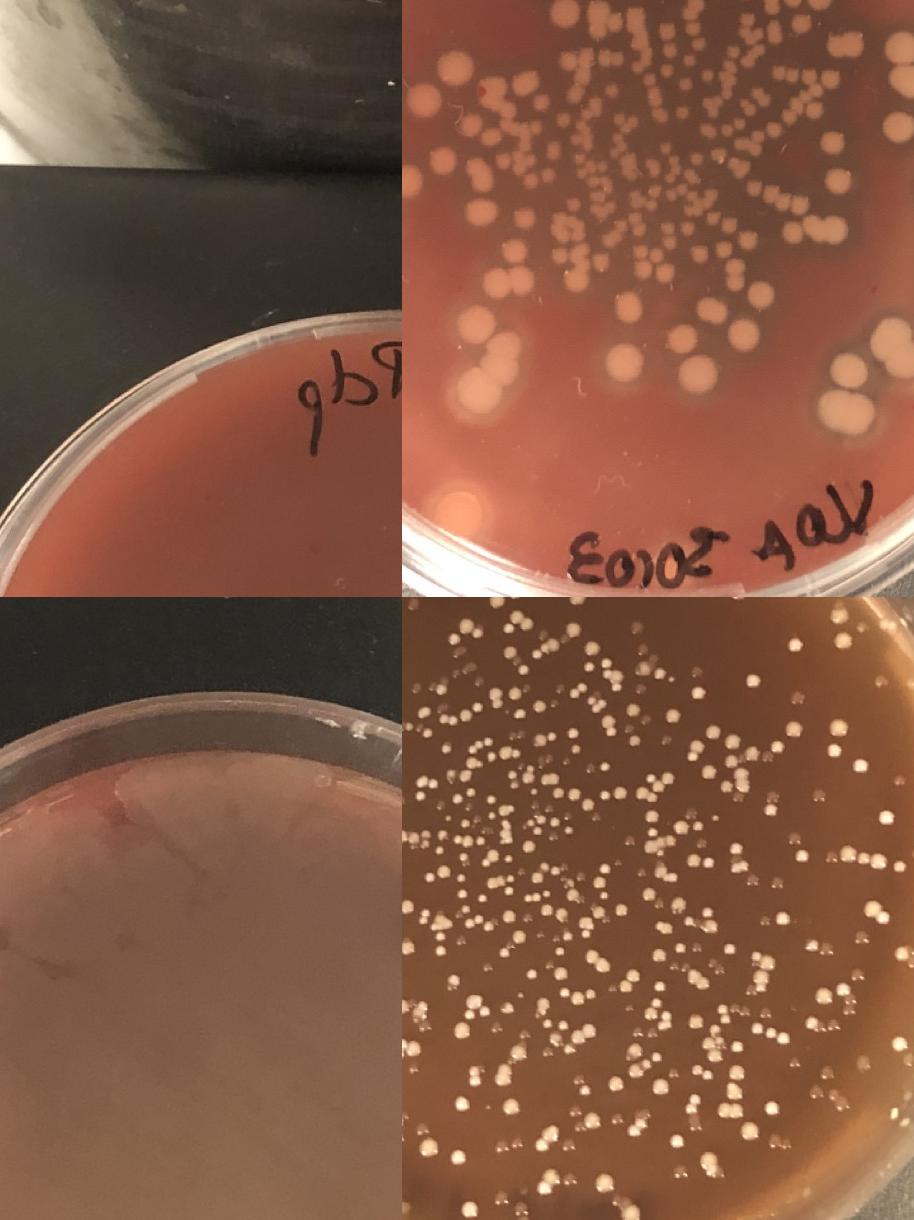assalmonicida: (436, 700, 485, 729), (839, 846, 888, 872), (550, 786, 597, 813), (723, 755, 752, 793), (749, 1020, 790, 1046), (533, 1124, 560, 1156), (413, 774, 439, 804), (537, 1168, 560, 1198), (753, 956, 776, 986), (570, 1022, 598, 1046), (618, 968, 642, 994), (584, 950, 610, 974), (688, 968, 712, 992), (598, 786, 629, 804), (509, 608, 534, 630), (487, 686, 506, 712), (716, 1102, 742, 1118), (402, 1040, 422, 1060), (878, 808, 896, 828), (816, 987, 834, 1006), (745, 672, 763, 691), (460, 1202, 478, 1220), (700, 1152, 718, 1170), (420, 1138, 438, 1156), (668, 1132, 686, 1150), (584, 1112, 602, 1130), (502, 1098, 520, 1116), (725, 1082, 743, 1100), (652, 1077, 670, 1095), (607, 1076, 625, 1094), (890, 1035, 908, 1053), (466, 992, 484, 1010), (894, 946, 912, 964), (865, 900, 883, 918), (672, 818, 690, 836), (700, 764, 718, 782), (852, 757, 870, 775), (825, 743, 843, 761), (725, 733, 743, 751), (704, 722, 722, 740), (832, 720, 850, 738), (786, 636, 804, 654), (836, 632, 854, 650), (564, 622, 582, 640), (450, 1148, 467, 1166), (832, 608, 848, 627), (623, 1204, 641, 1220), (596, 1174, 612, 1192), (626, 1124, 642, 1142), (742, 1122, 758, 1140), (764, 1099, 780, 1117), (454, 1094, 470, 1112), (496, 1070, 512, 1088), (454, 1022, 470, 1040), (805, 1014, 821, 1032), (432, 942, 448, 960), (512, 928, 528, 946), (703, 918, 719, 936), (554, 906, 570, 924), (672, 896, 688, 914), (565, 886, 581, 904), (642, 886, 658, 904), (592, 874, 608, 892), (596, 758, 612, 776), (420, 726, 436, 744), (786, 722, 802, 740), (636, 658, 652, 676), (584, 640, 600, 658), (535, 997, 551, 1014), (553, 965, 569, 982), (723, 941, 739, 958), (893, 860, 909, 877), (660, 770, 676, 787), (457, 767, 473, 784), (744, 745, 760, 762), (690, 738, 706, 755), (601, 713, 617, 730), (417, 703, 433, 720), (507, 686, 523, 703), (460, 617, 476, 634), (804, 938, 820, 954), (728, 862, 744, 878), (701, 854, 717, 870), (728, 842, 744, 858), (644, 808, 660, 824), (498, 744, 514, 760), (626, 734, 642, 750), (531, 732, 547, 748), (625, 702, 641, 718), (532, 698, 548, 714), (445, 630, 461, 646), (690, 1014, 704, 1032), (764, 800, 778, 818), (504, 644, 518, 662), (627, 1043, 643, 1058), (730, 1040, 746, 1055), (642, 1008, 658, 1023), (651, 950, 667, 965), (775, 909, 791, 924), (794, 850, 810, 865), (485, 848, 501, 863), (644, 840, 660, 855), (496, 803, 512, 818), (635, 786, 651, 801), (770, 740, 786, 755), (666, 708, 682, 723), (654, 665, 670, 680), (578, 918, 594, 932), (502, 908, 516, 924), (436, 864, 452, 878), (524, 840, 538, 855), (692, 686, 706, 701), (402, 899, 415, 914), (489, 597, 505, 608), (568, 597, 585, 607), (402, 940, 413, 955), (402, 827, 410, 844), (402, 999, 411, 1014), (507, 597, 523, 601)
pddamselae: (814, 351, 877, 436), (666, 320, 720, 396), (868, 315, 914, 382), (746, 178, 810, 216), (770, 65, 823, 103), (481, 266, 538, 300), (606, 342, 646, 384), (632, 246, 676, 284), (585, 0, 624, 42), (456, 305, 496, 345), (436, 48, 476, 88), (458, 112, 502, 148), (402, 132, 424, 200), (405, 82, 442, 120), (825, 30, 866, 60), (727, 318, 761, 354), (613, 288, 646, 324), (749, 122, 782, 158), (882, 109, 914, 145), (745, 278, 777, 312), (819, 214, 851, 247), (548, 0, 582, 31), (886, 31, 914, 67), (817, 127, 849, 156), (426, 146, 459, 174), (680, 0, 705, 36), (657, 21, 680, 60), (822, 168, 854, 196), (725, 258, 747, 292), (705, 212, 738, 234), (664, 184, 700, 204), (661, 219, 679, 252), (512, 207, 536, 231), (790, 12, 814, 36), (721, 116, 747, 138), (608, 132, 629, 159), (663, 156, 683, 184), (737, 228, 760, 252), (688, 242, 710, 266), (782, 222, 804, 246), (590, 252, 612, 274), (548, 245, 570, 267), (531, 92, 553, 114), (612, 112, 640, 129), (820, 68, 842, 88), (650, 105, 668, 124), (805, 0, 833, 12), (715, 241, 732, 259), (495, 153, 513, 170), (690, 36, 708, 53), (610, 50, 626, 68), (740, 54, 756, 71), (779, 110, 797, 125), (806, 103, 824, 118), (738, 13, 756, 28), (680, 222, 696, 238), (566, 196, 580, 214), (727, 157, 741, 174), (632, 224, 648, 238), (542, 168, 556, 184), (659, 64, 675, 78), (524, 173, 538, 188), (648, 182, 660, 199), (782, 0, 804, 9), (690, 152, 704, 166), (659, 142, 673, 156), (606, 85, 620, 99), (679, 78, 693, 92), (683, 53, 697, 67), (727, 46, 741, 60), (556, 114, 570, 127), (643, 74, 657, 87), (676, 107, 688, 121), (744, 103, 756, 117), (702, 70, 714, 84), (753, 28, 765, 41), (575, 168, 587, 180), (596, 160, 608, 172)
